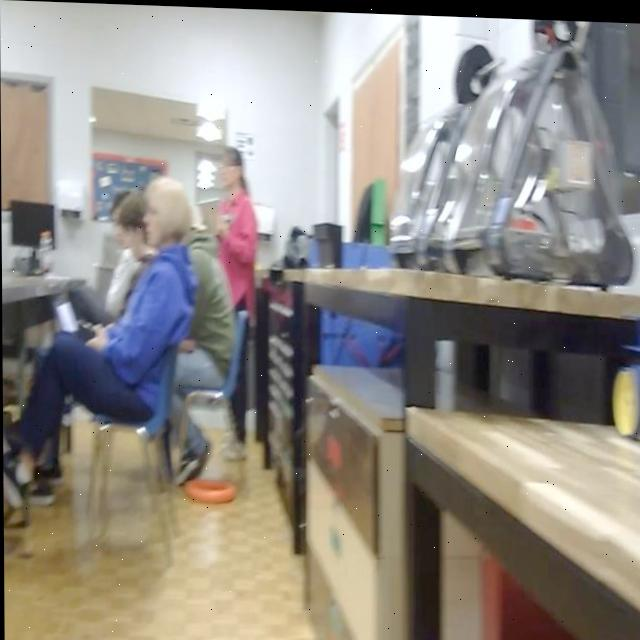note: (182, 473, 237, 506)
